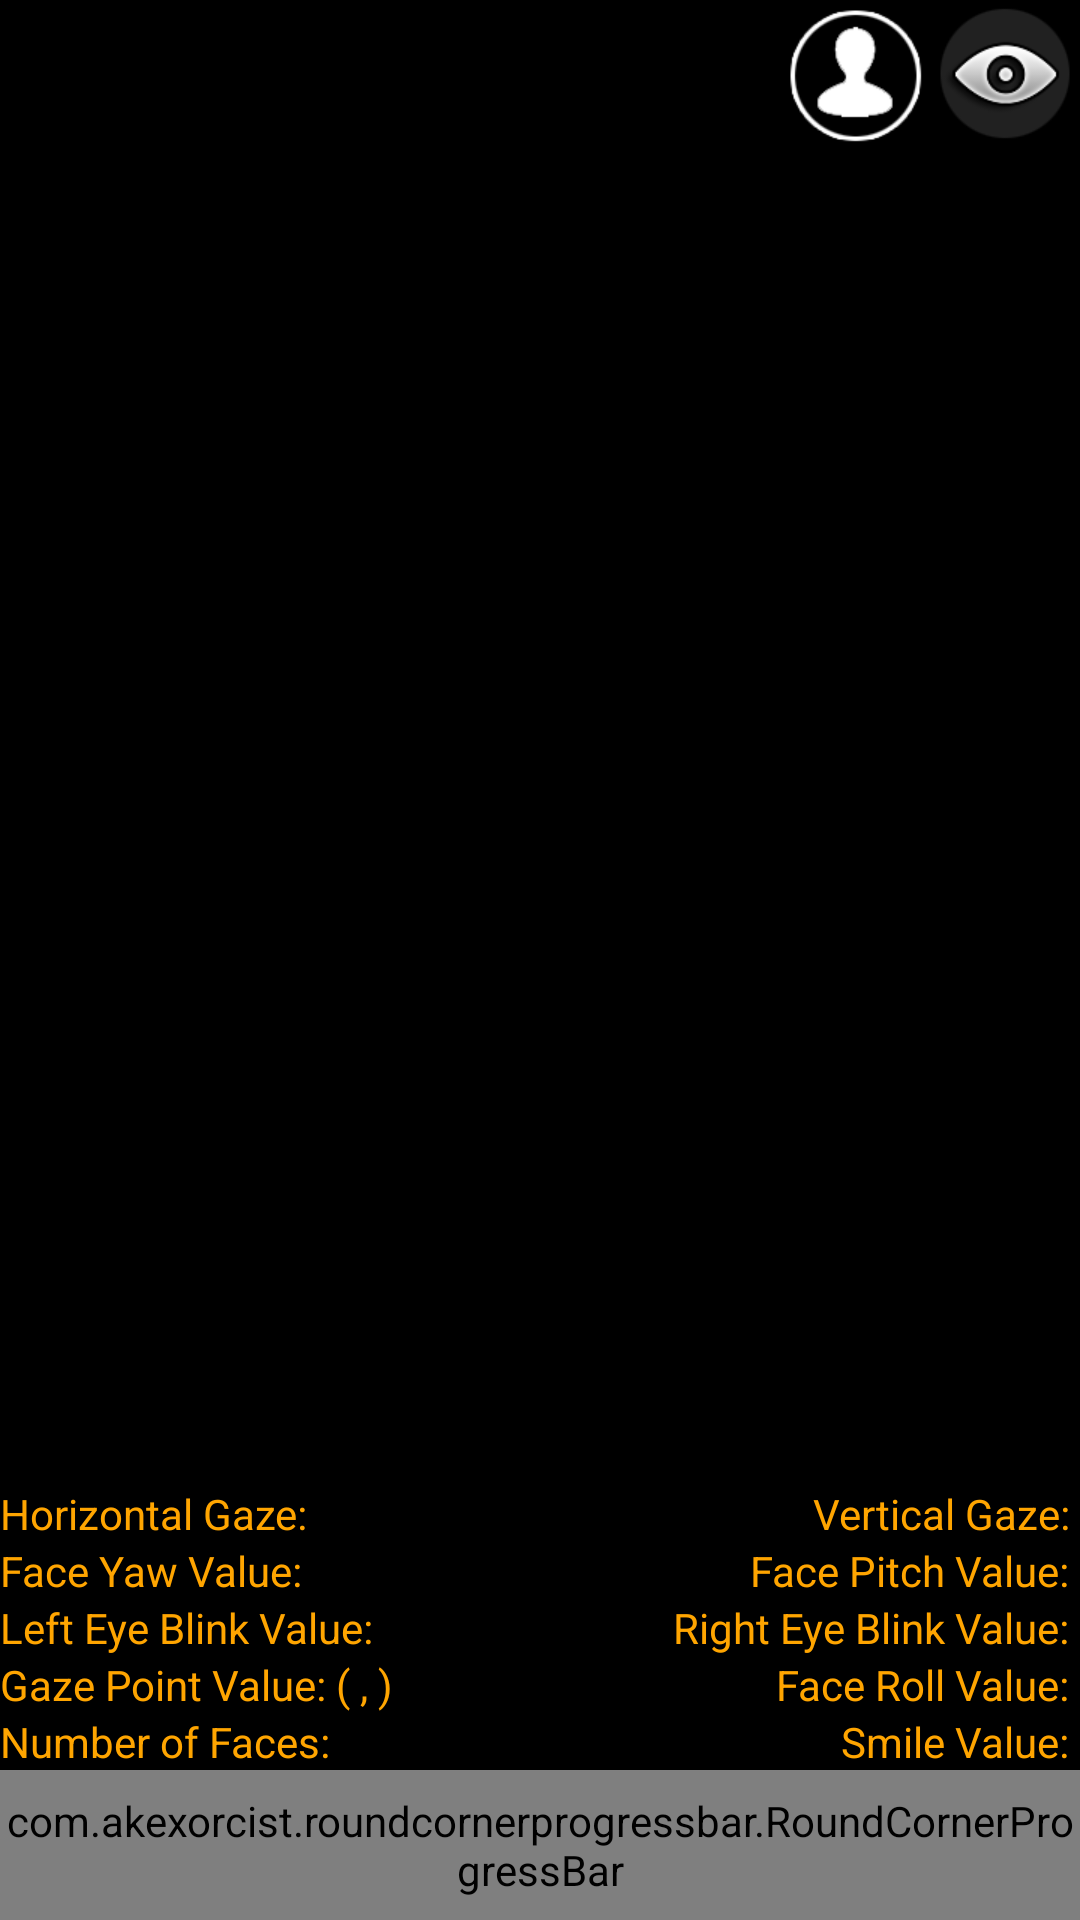

Icon bounding boxes for this 1080*1920 phone screenshot, format bbox(x1, y1, x2, y2):
viewdatasettings: bbox(941, 9, 1069, 138)
